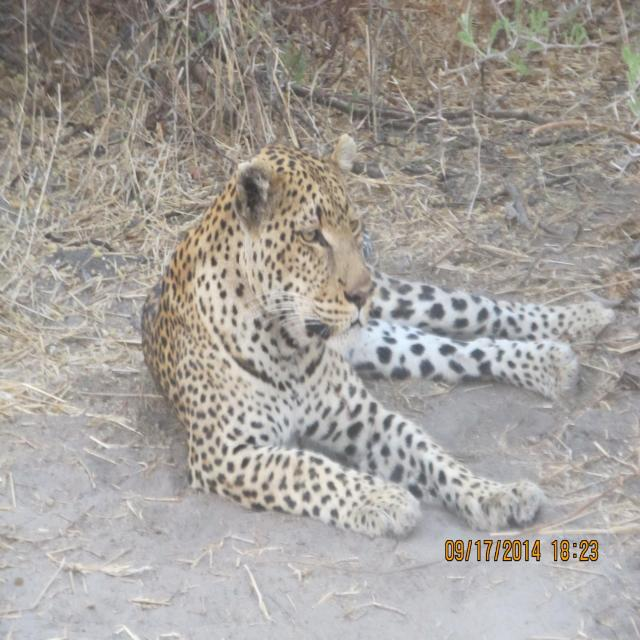Leopard: (135, 146, 627, 528)
